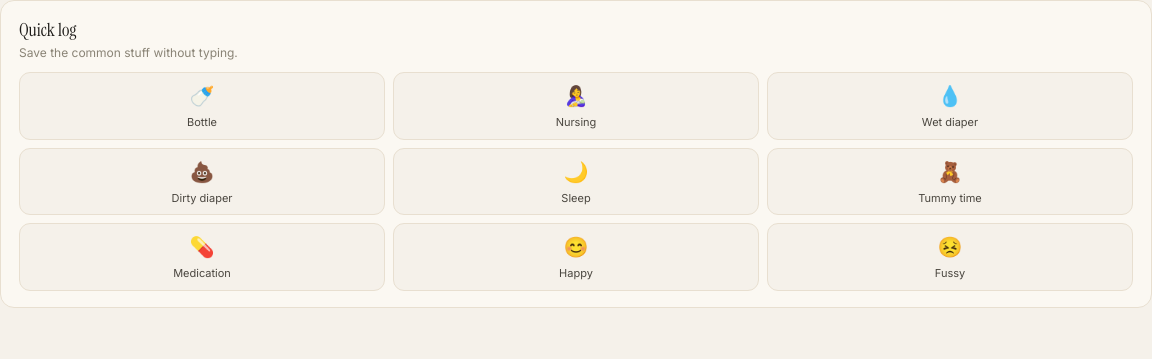
Test: QuickLog › logs a wet diaper in one tap and can undo that exact record
Click the button "💧 Wet diaper" at (950, 106), box [767, 72, 1133, 140]
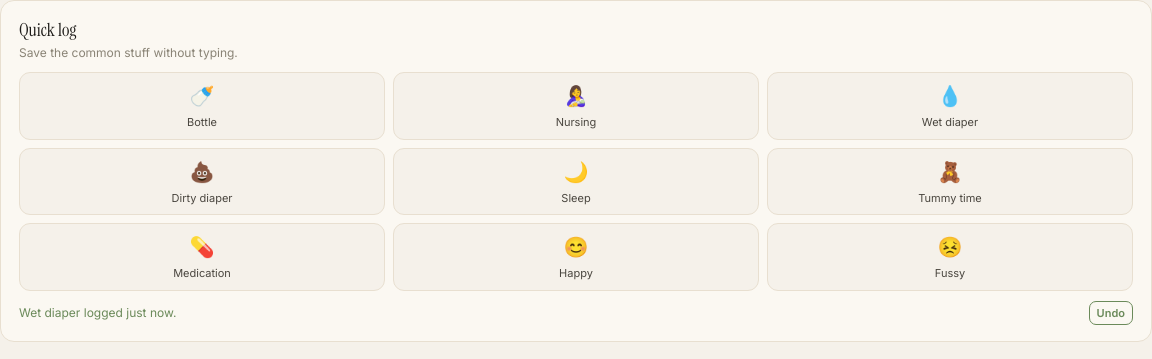
Result: the text "Wet diaper logged just now." is shown at [19, 304, 176, 322]
Click the button with aria-label "Undo Diaper — wet" at (1111, 313), box [1089, 300, 1133, 325]
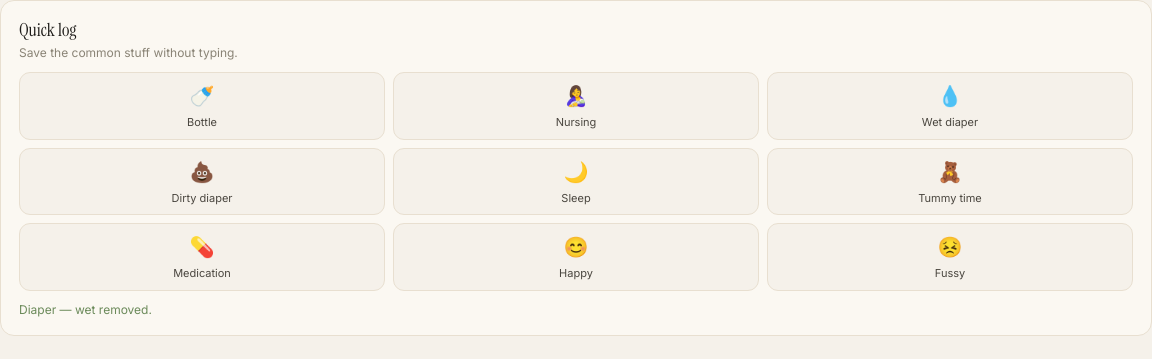
Result: the text "Diaper — wet removed." is shown at [19, 300, 152, 318]
